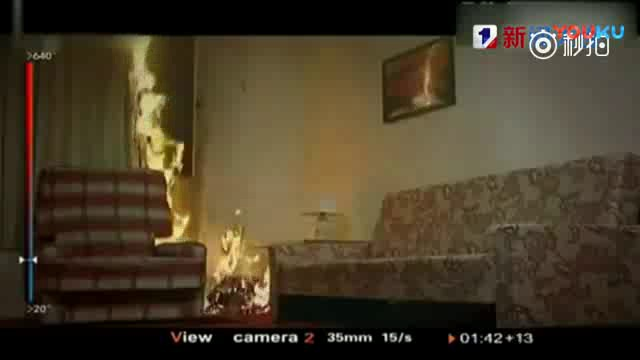fire: (124, 36, 191, 245), (208, 225, 266, 310)
